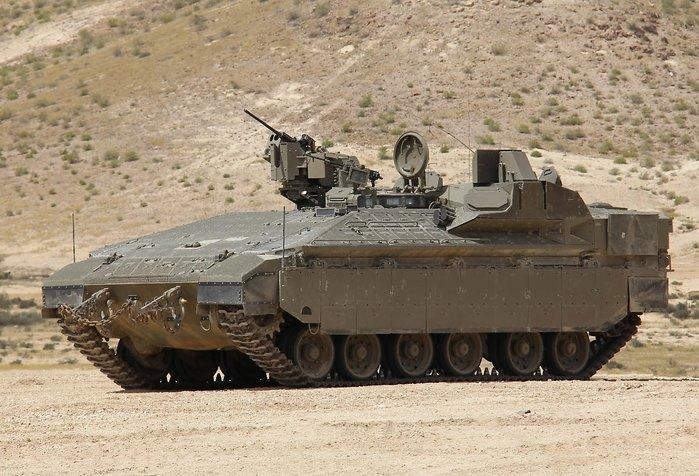MIL_IFV: (40, 108, 674, 391)
